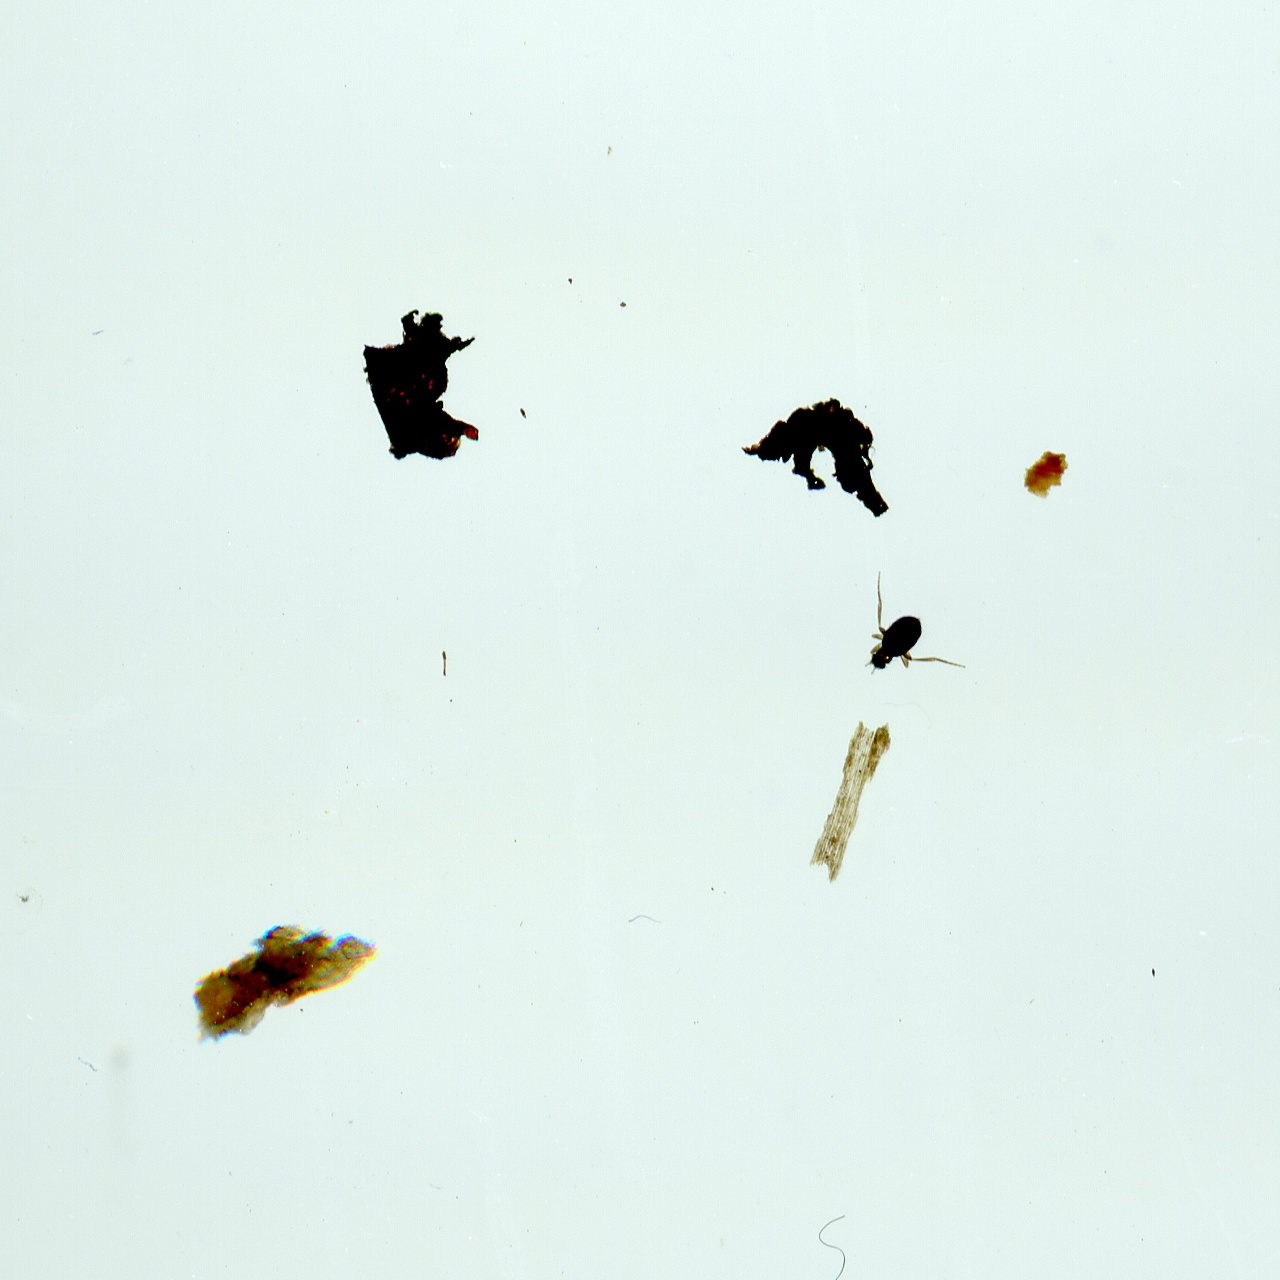arthropod: (856, 560, 972, 689)
